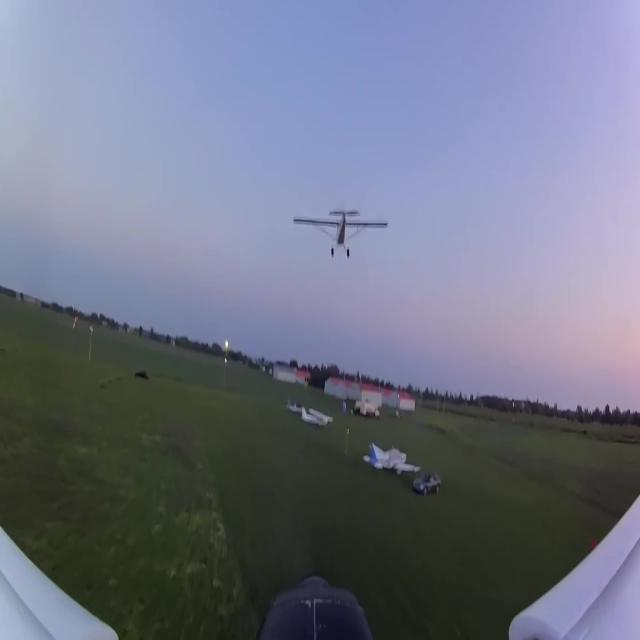iha: (324, 209, 355, 263)
